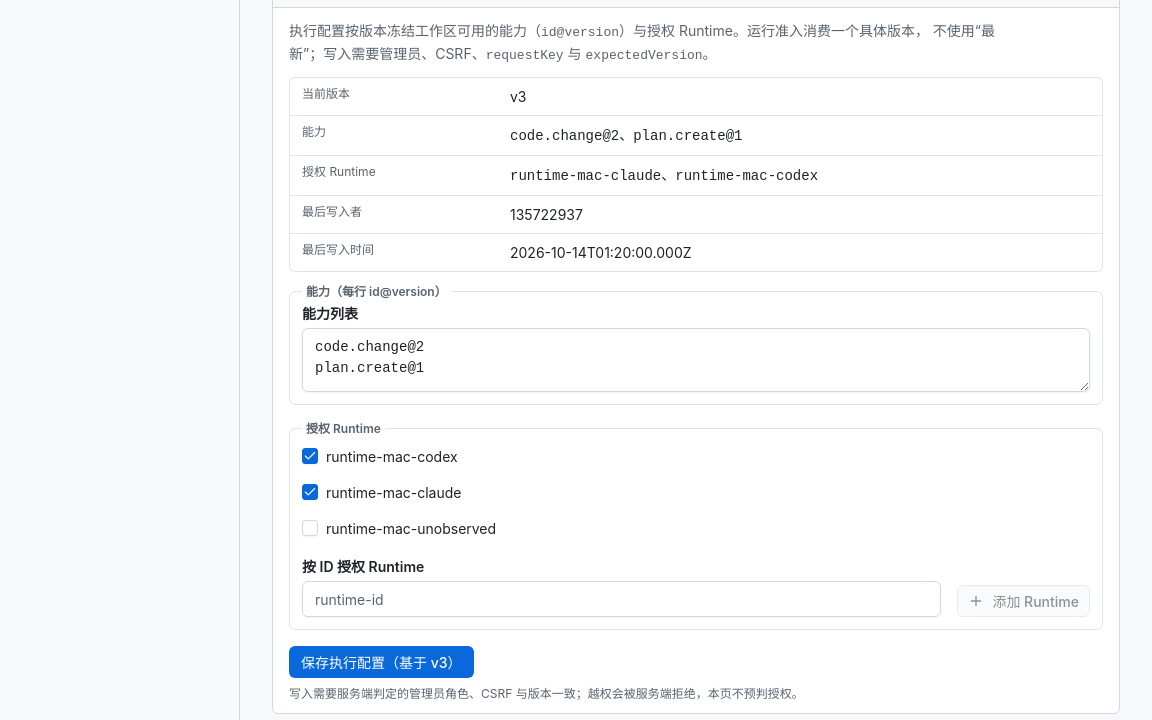
Test: runtime pages › refuses to submit an invalid capability list locally
This screenshot has width=1152, height=720.
(page scrolled)
Replace the text in the text box labelled "能力列表" with "not-a-capability" at (696, 360), box [302,328,1090,392]
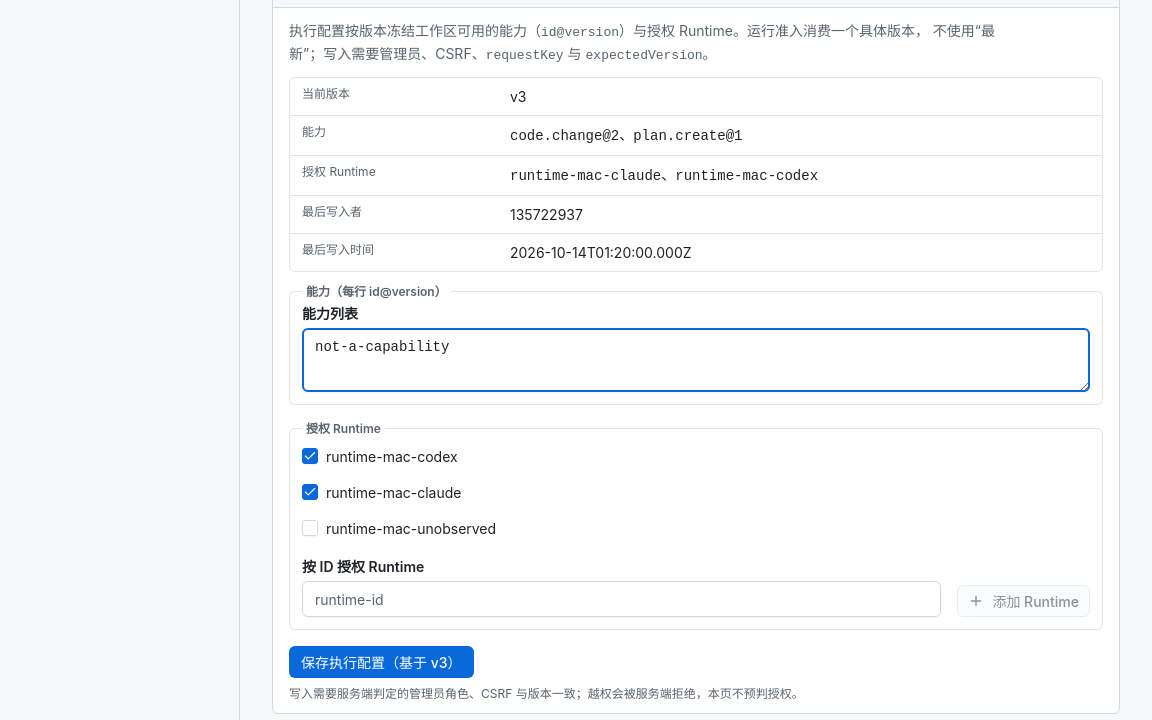
Click the button "保存执行配置（基于 v3）".
click(381, 662)  # box [289,646,474,678]
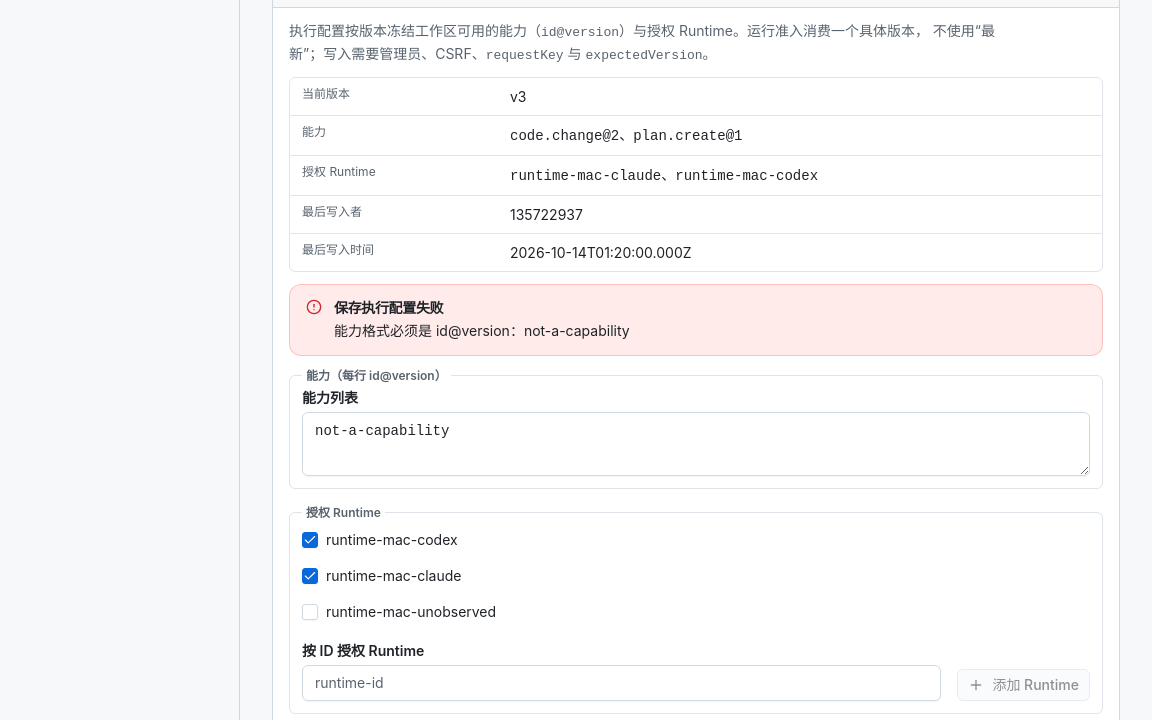
Check: the message shows "能力格式必须是 id@version", box [334,322,630,339]
